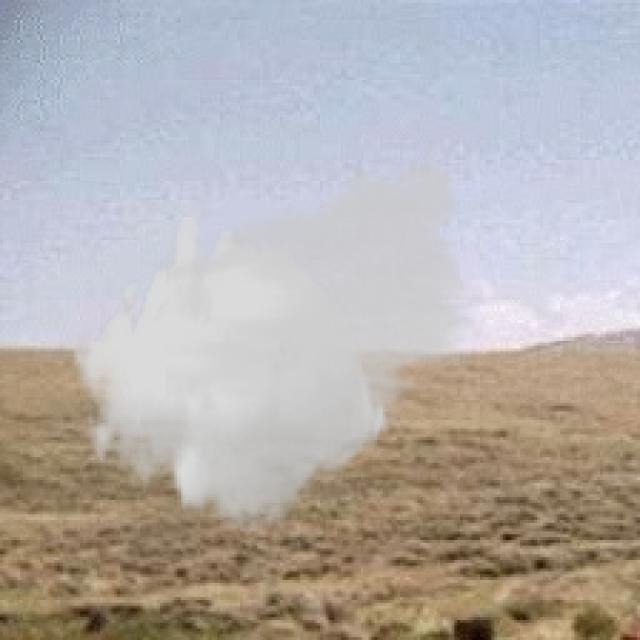Smoke: (71, 143, 483, 532)
